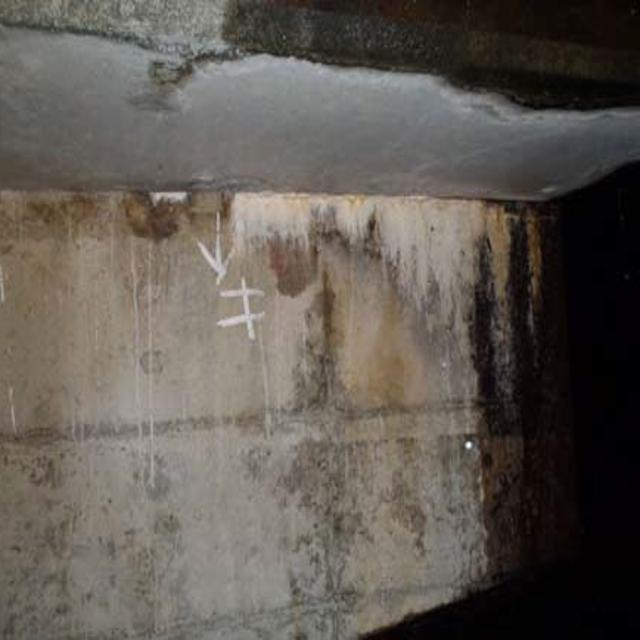freelime: (225, 184, 536, 309)
